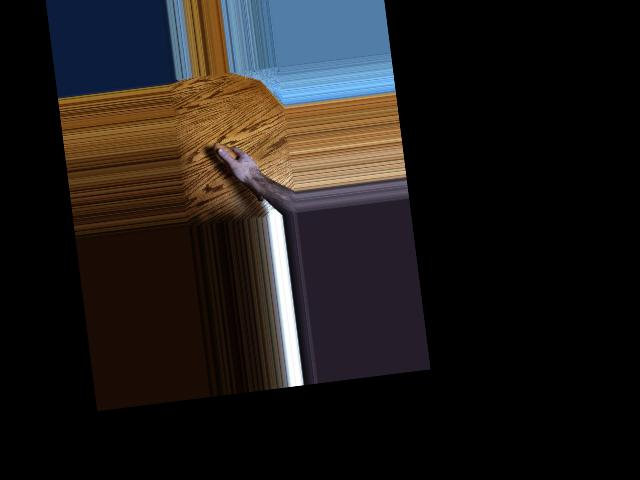sweet_potato: (212, 136, 263, 205)
